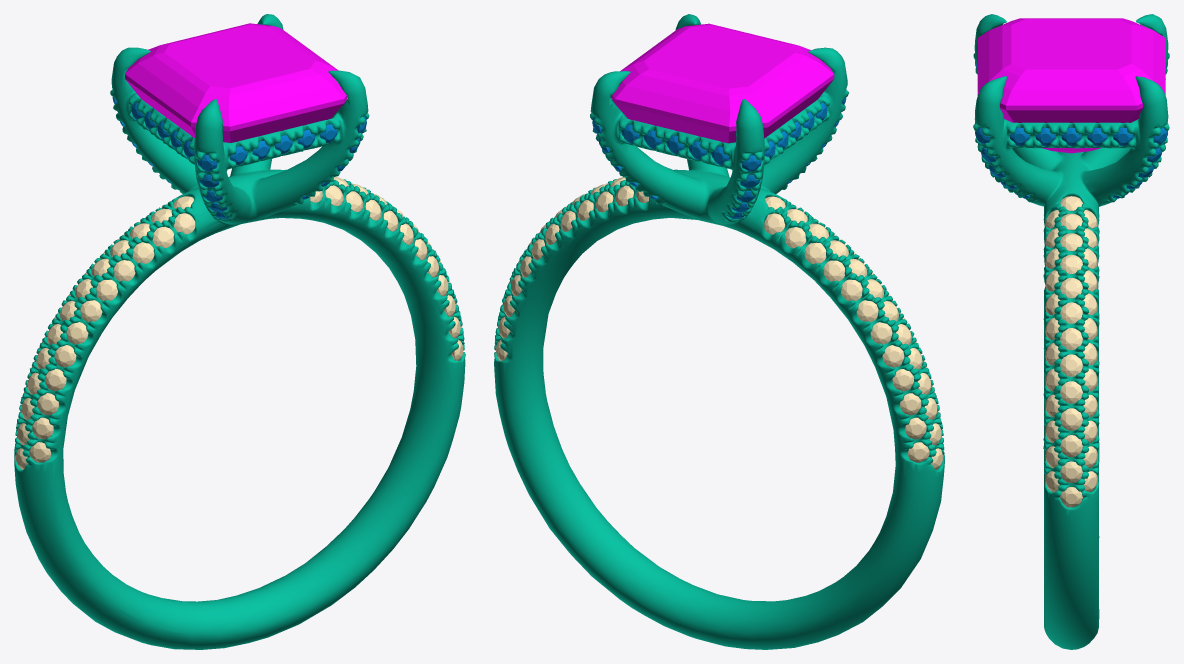
File: BE1D3907_AS_200ct_RENDER.glb
The picture shows the model from 3 angles, left to right: view 1: azimuth 30°, elevation 25°; view 2: azimuth 150°, elevation 25°; view 3: azimuth 270°, elevation 25°; orthographic projection.
Visible parts, largest first — view 1: Metal 01, CS_Diamond_Asscher; view 2: Metal 01, CS_Diamond_Asscher; view 3: Metal 01, CS_Diamond_Asscher, Diamond_Round_Gem_SH.020, Diamond_Round_Gem_SH.021, Diamond_Round_Gem_SH.019, Diamond_Round_Gem_SH.018, Diamond_Round_Gem_SH.022, Diamond_Round_Gem_SH.023, Diamond_Round_Gem_SH.017, Diamond_Round_Gem_SH.016, Diamond_Round_Gem_SH.024, Diamond_Round_Gem_SH.015 (+1 smaller).
Part boxes in pixels (x1,y1,x2,y2): Metal 01: [14, 14, 465, 649]; CS_Diamond_Asscher: [125, 23, 347, 142]; Metal 01: [494, 14, 944, 649]; CS_Diamond_Asscher: [611, 23, 834, 143]; Metal 01: [973, 14, 1169, 649]; CS_Diamond_Asscher: [977, 18, 1165, 153]; Diamond_Round_Gem_SH.020: [1060, 381, 1082, 403]; Diamond_Round_Gem_SH.021: [1060, 408, 1082, 430]; Diamond_Round_Gem_SH.019: [1060, 354, 1082, 376]; Diamond_Round_Gem_SH.018: [1060, 328, 1082, 349]; Diamond_Round_Gem_SH.022: [1060, 435, 1082, 457]; Diamond_Round_Gem_SH.023: [1060, 461, 1082, 483]; Diamond_Round_Gem_SH.017: [1060, 302, 1082, 323]; Diamond_Round_Gem_SH.016: [1060, 278, 1082, 298]; Diamond_Round_Gem_SH.024: [1060, 487, 1082, 507]; Diamond_Round_Gem_SH.015: [1060, 254, 1082, 274].
Bounding box in the file's own units: 20.3 × 25.61 × 7.83.
